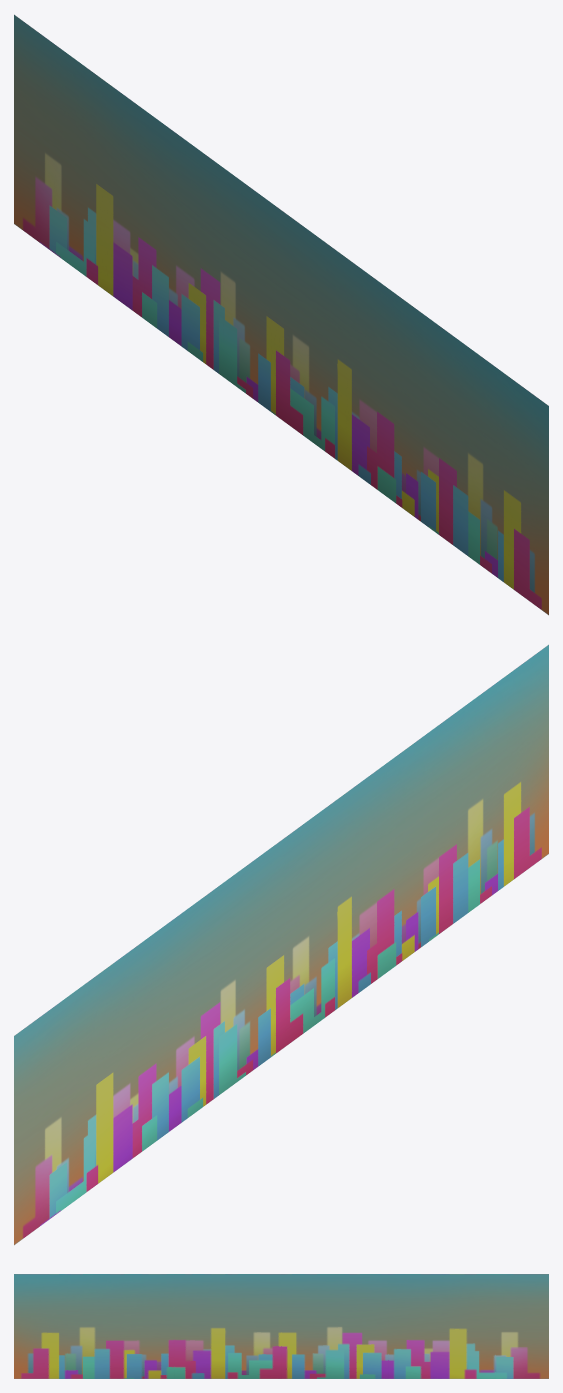
The picture shows the model from 3 angles, top to bottom: view 1: azimuth 30°, elevation 25°; view 2: azimuth 150°, elevation 25°; view 3: azimuth 270°, elevation 25°; orthographic projection. The views are drawn at different scales.
Parts seen in each view (by area): view 1: ST4_BG1; view 2: ST4_BG1; view 3: ST4_BG1.
Part boxes in pixels (left/top/right/bottom): ST4_BG1: left=14, top=14, right=548, bottom=615; ST4_BG1: left=14, top=644, right=548, bottom=1245; ST4_BG1: left=14, top=1274, right=548, bottom=1378.
Size of the model in its own units: 5.31e-13 by 6488 by 30036.
